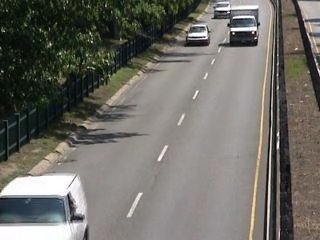car: (185, 23, 213, 48), (213, 1, 232, 19)
truck: (1, 171, 96, 240), (228, 4, 261, 50)
